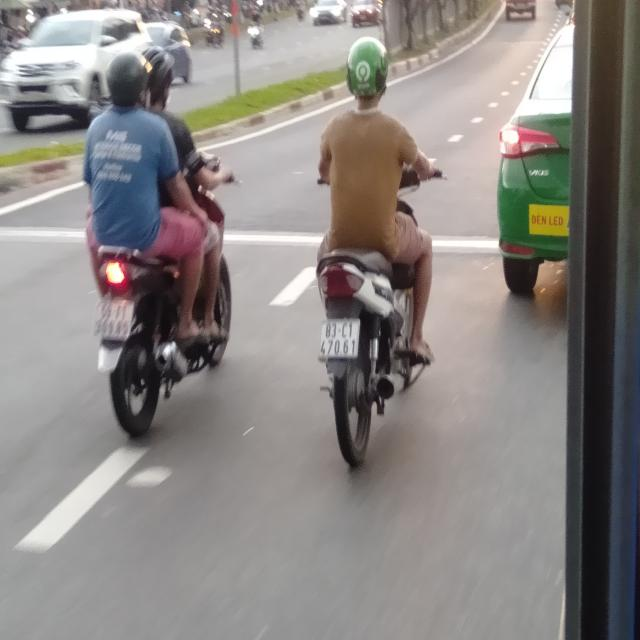bien_trang: (318, 316, 358, 359)
